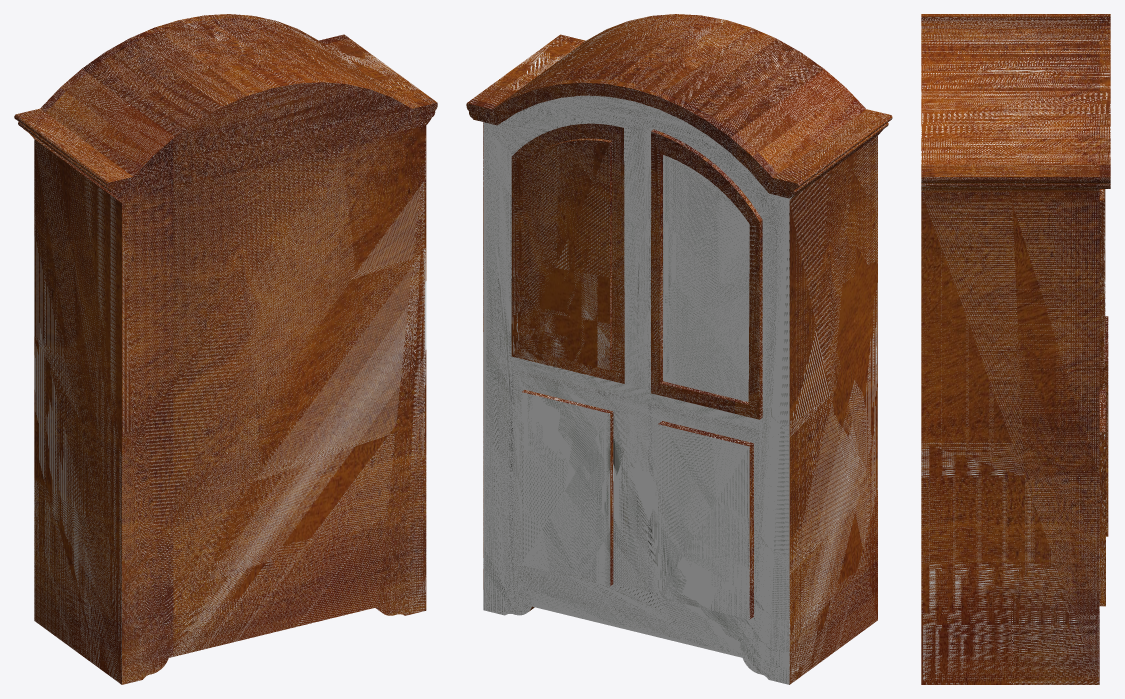
3 views of the same model, side by side, from view 1: azimuth 30°, elevation 25°; view 2: azimuth 150°, elevation 25°; view 3: azimuth 270°, elevation 25° (orthographic).
Visible parts, largest first — view 1: mesh1_mesh1-geometry; view 2: mesh1_mesh1-geometry; view 3: mesh1_mesh1-geometry.
Boxes of the visible parts, bbox=[...] form: mesh1_mesh1-geometry: bbox=[14, 14, 437, 684]; mesh1_mesh1-geometry: bbox=[466, 14, 892, 684]; mesh1_mesh1-geometry: bbox=[921, 14, 1110, 684].
Size of the model in its own units: 0.5088 by 0.8242 by 0.2487.
